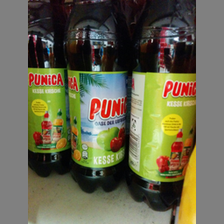juice: (128, 3, 194, 212), (66, 1, 127, 196), (28, 8, 69, 176)
